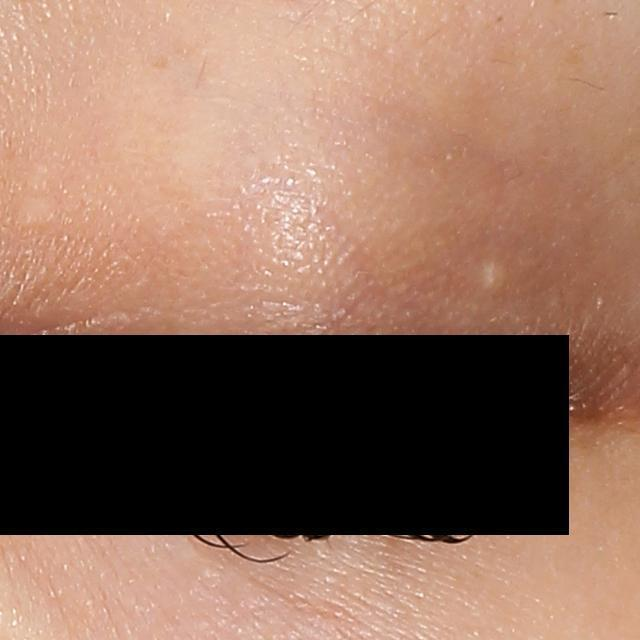comedo: (480, 261, 503, 295)
other: (20, 194, 59, 230)
